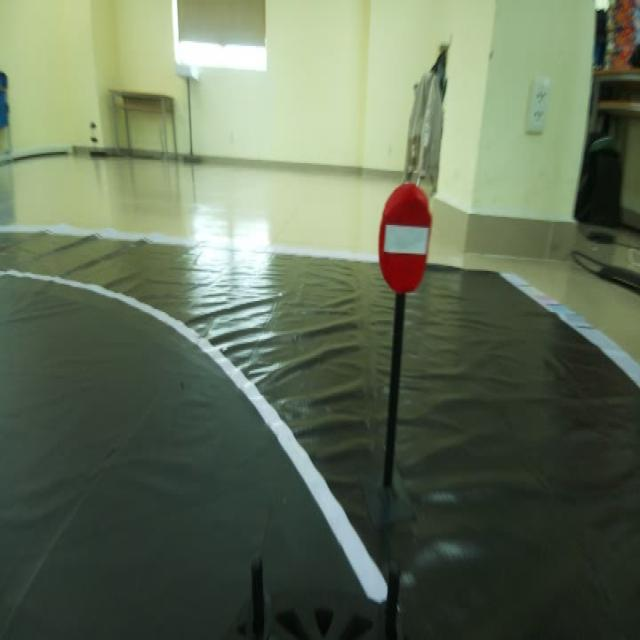no_entry: (373, 168, 430, 296)
